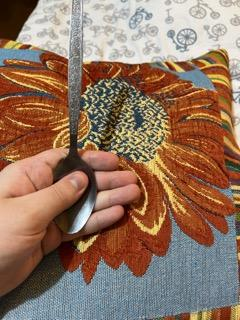spoon: (47, 0, 101, 238)
